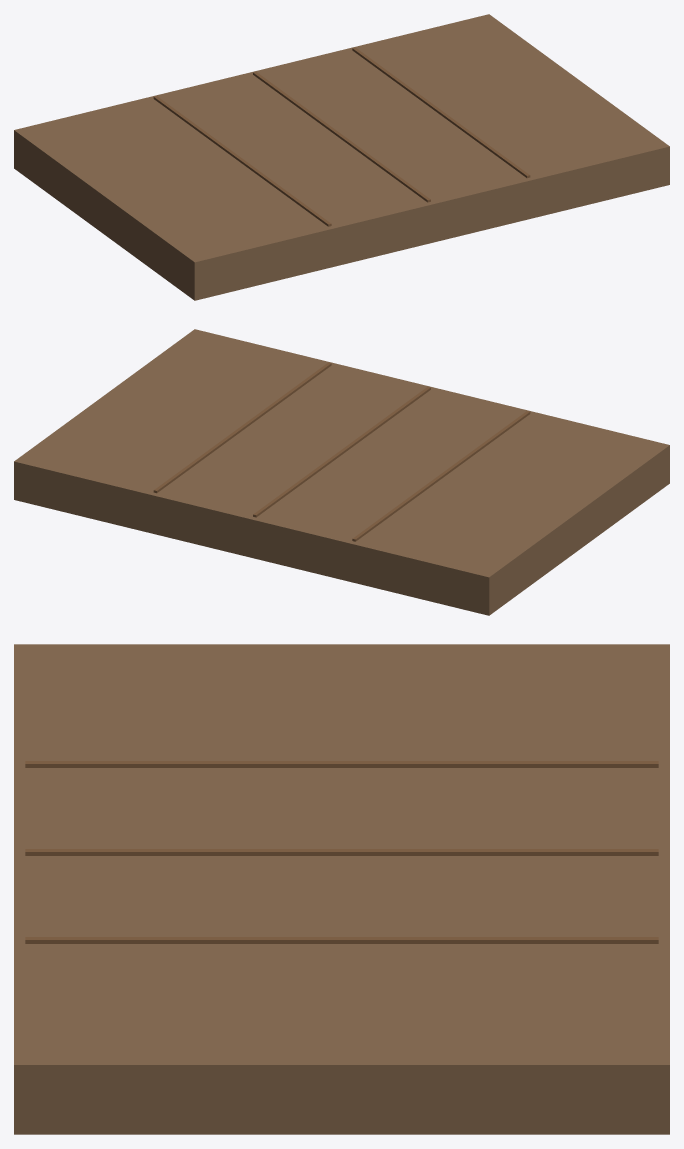
Rendered from L-03_chopping_board.glb.
The picture shows the model from 3 angles, top to bottom: view 1: azimuth 30°, elevation 25°; view 2: azimuth 150°, elevation 25°; view 3: azimuth 270°, elevation 25°; orthographic projection. The views are drawn at different scales.
Visible parts, largest first — view 1: L-03_chopping_board; view 2: L-03_chopping_board; view 3: L-03_chopping_board.
Boxes of the visible parts, <box> form: L-03_chopping_board: <box>14,14,669,300</box>; L-03_chopping_board: <box>14,329,669,615</box>; L-03_chopping_board: <box>14,644,669,1134</box>.
Size of the model in its own units: 0.44 by 0.036 by 0.29.
